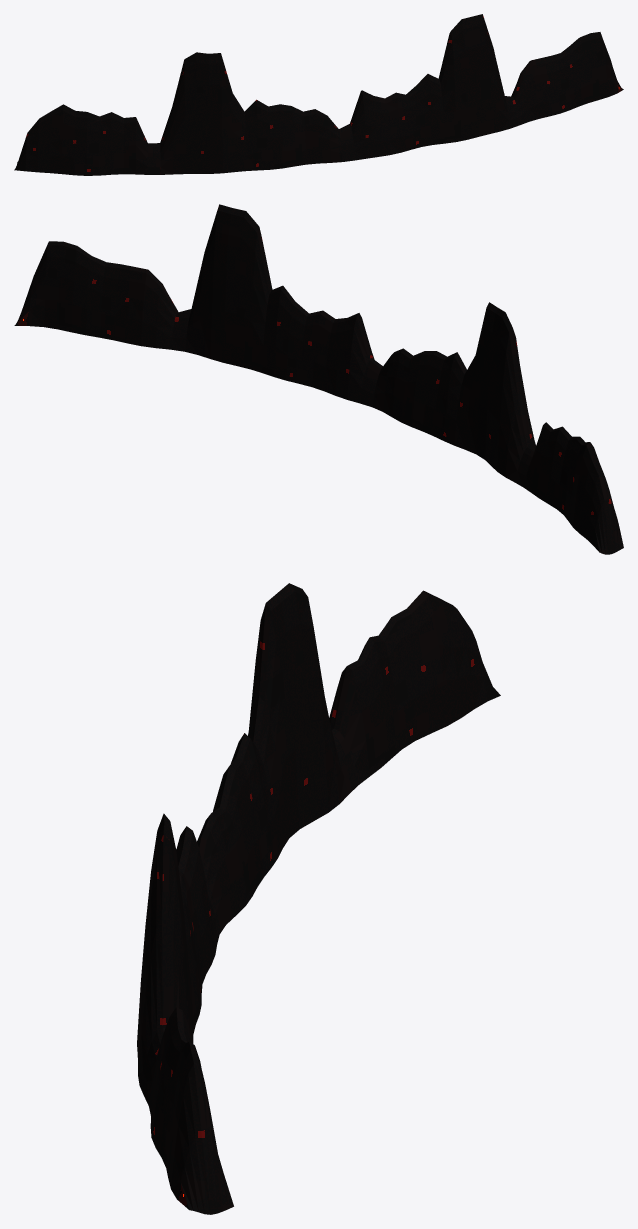
File: map_base_cover_s2.glb
3 renders of one model, top to bottom at view 1: azimuth 30°, elevation 25°; view 2: azimuth 150°, elevation 25°; view 3: azimuth 270°, elevation 25°, orthographic. The views are drawn at different scales.
Visible parts, largest first — view 1: MapBaseCoverS2Rock; view 2: MapBaseCoverS2Rock; view 3: MapBaseCoverS2Rock.
Part boxes in pixels (left/top/right/bottom): MapBaseCoverS2Rock: left=14, top=14, right=623, bottom=175; MapBaseCoverS2Rock: left=14, top=204, right=623, bottom=554; MapBaseCoverS2Rock: left=137, top=583, right=500, bottom=1214.
Size of what is drawn, in the model's own units: 46.24 by 9.88 by 13.5.
Materials: 2 (2 with a texture image).
